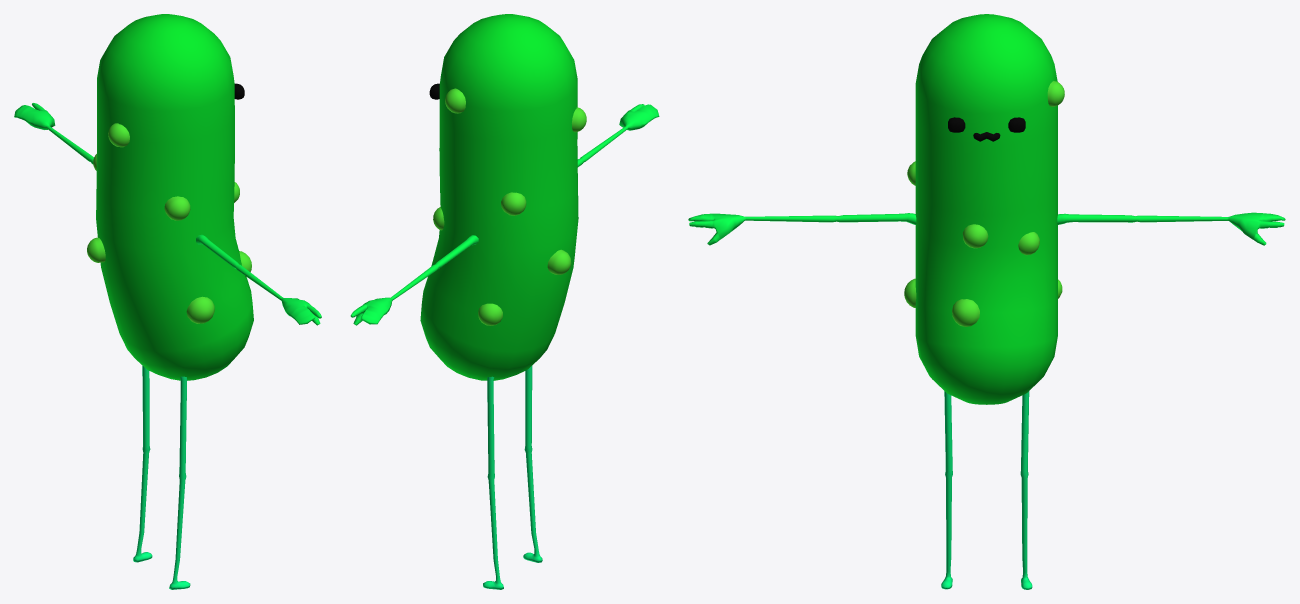
File: pickle.glb
The picture shows the model from 3 angles, left to right: view 1: azimuth 30°, elevation 25°; view 2: azimuth 150°, elevation 25°; view 3: azimuth 270°, elevation 25°; orthographic projection. The views are drawn at different scales.
Visible parts, largest first — view 1: mesh_casdasd2; view 2: mesh_casdasd2; view 3: mesh_casdasd2.
Part boxes in pixels (box(x1,y1,x2,y2)): mesh_casdasd2: box(14, 14, 321, 589); mesh_casdasd2: box(350, 14, 659, 589); mesh_casdasd2: box(688, 14, 1285, 589).
Bounding box in the file's own units: 1.29 × 4.6 × 4.4.
Materials: 1 (1 with a texture image).
